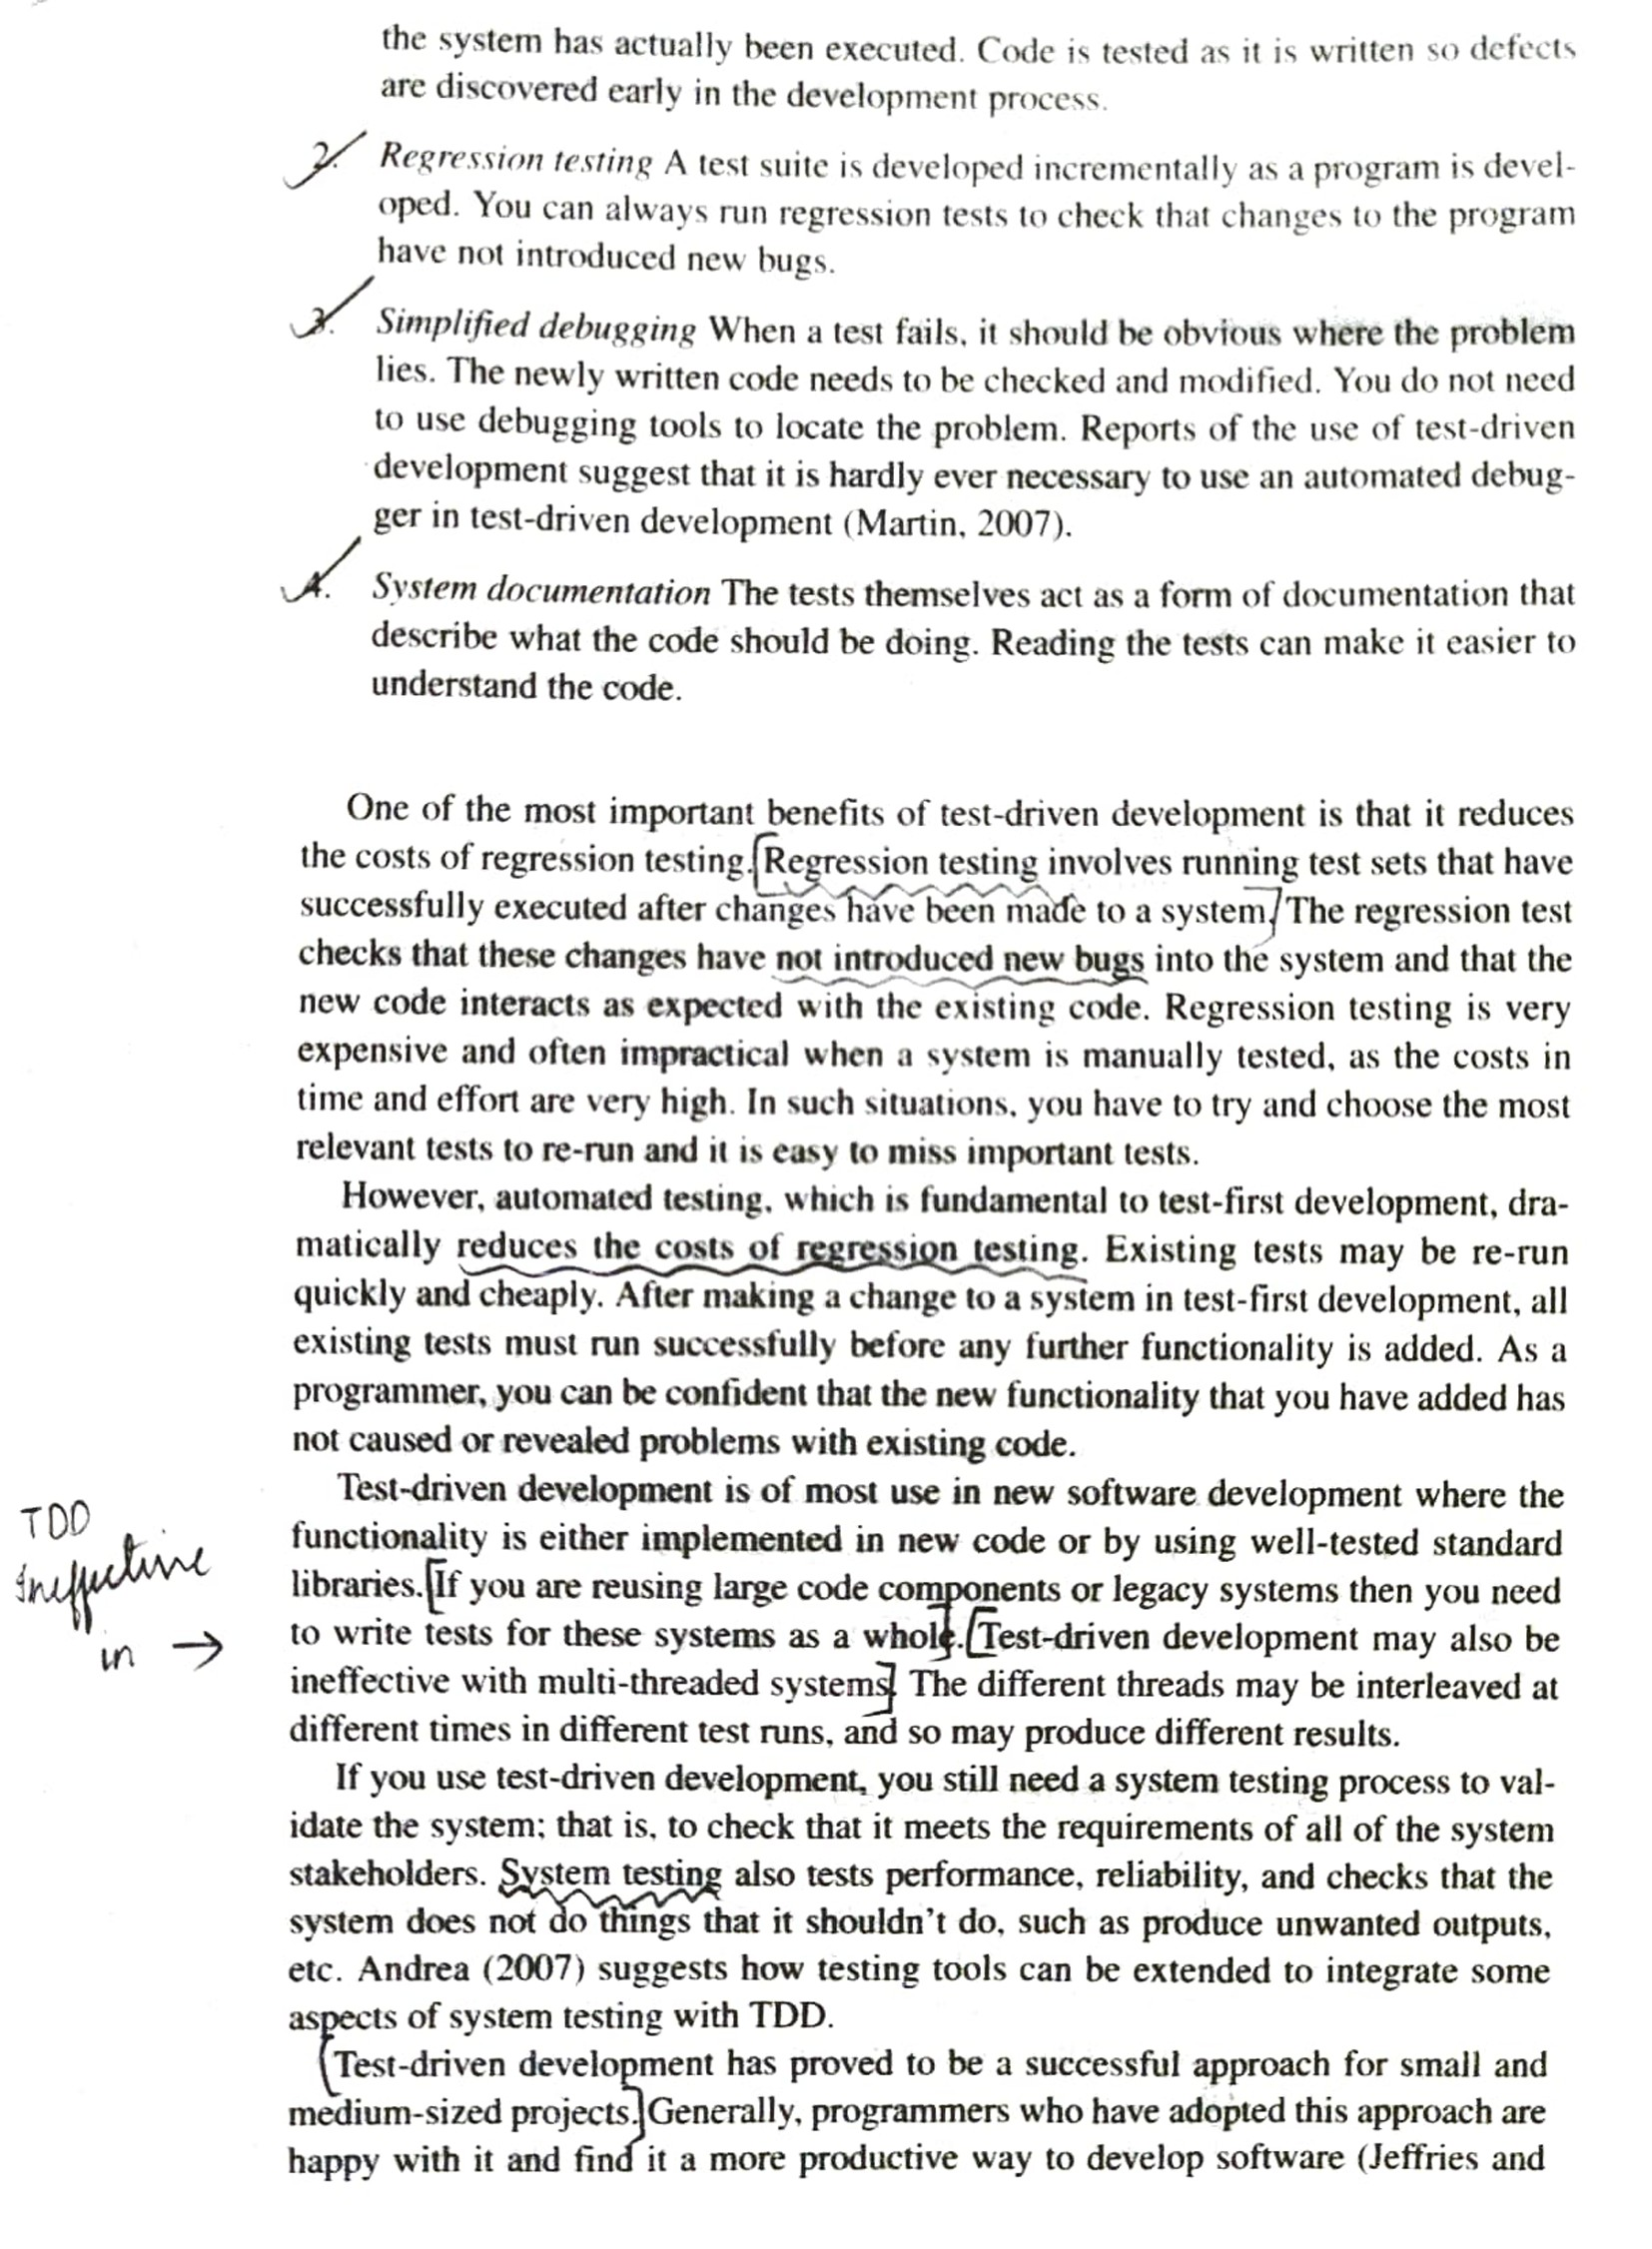BB1: (243, 768, 1607, 1186)
BB2: (243, 1163, 1610, 1468)
BB3: (246, 1458, 1607, 1762)
BB4: (246, 1751, 1603, 2209)
